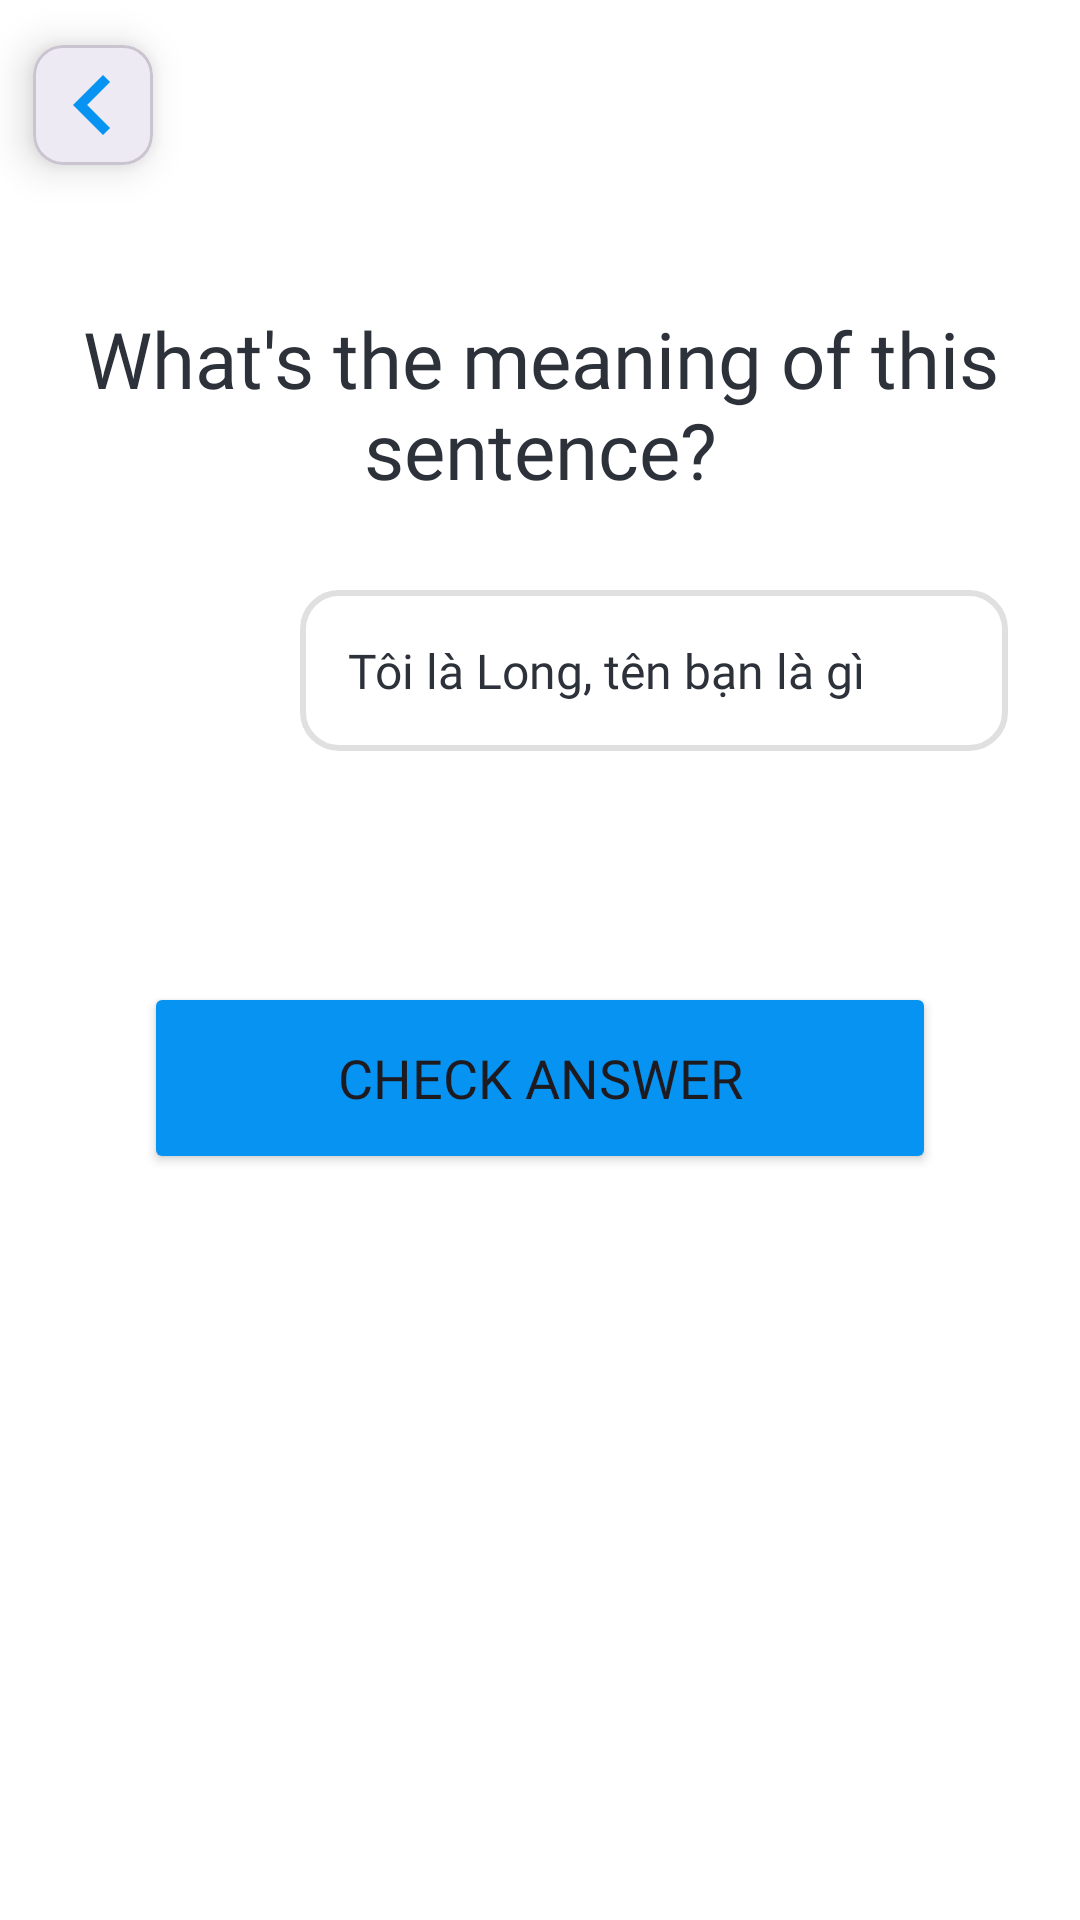

Named icons in this screenshot (1080px×1920px) and their bounding boxes, (x1, y1, x2, y2):
Back: (33, 45, 153, 165)
